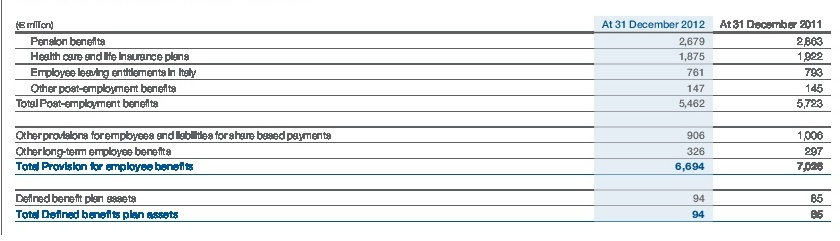table: (0, 0, 840, 241)
